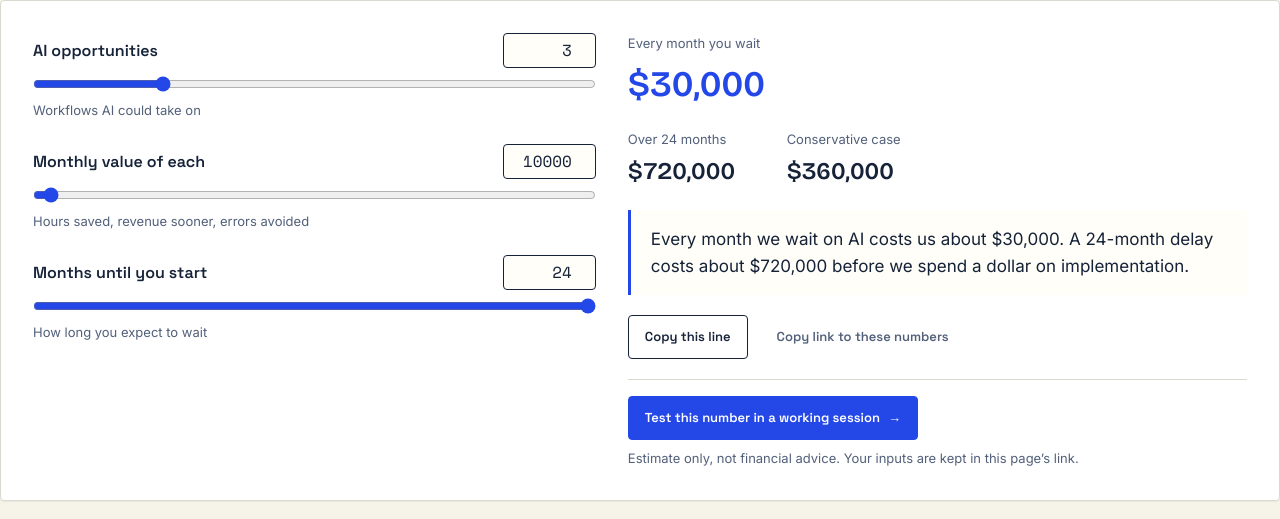
Scenario: CostOfDelayCalculator › shows the kept value, not the typed one, when an entry snaps back to it
Replace the text in the number field named "Months until you start, exact value" with "99" at (549, 272), box x1=503 y1=255 x2=596 y2=290
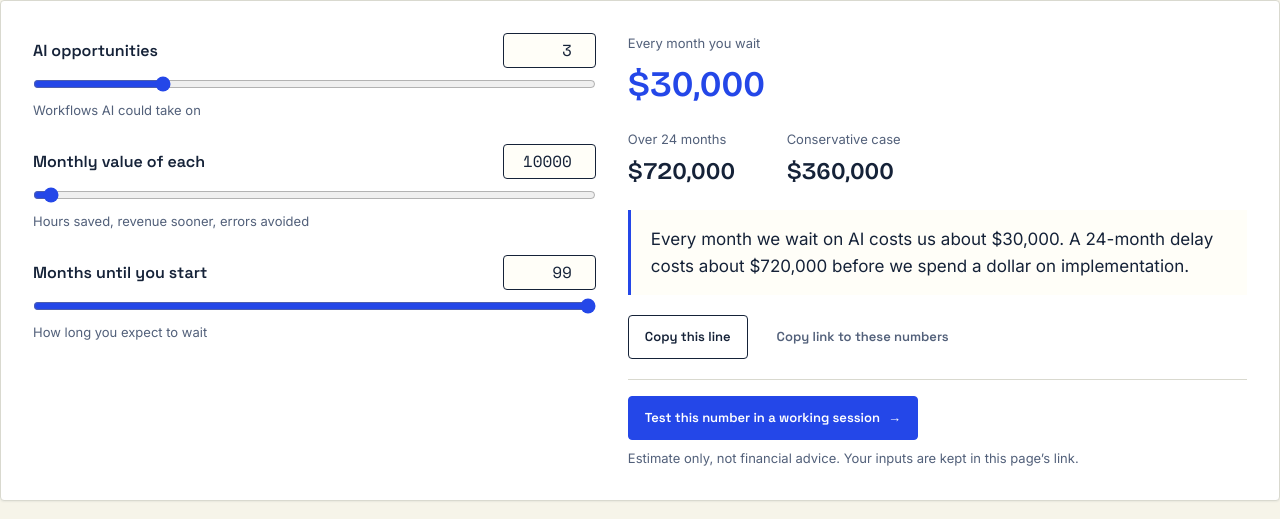
Leave the number field named "Months until you start, exact value", box x1=503 y1=255 x2=596 y2=290
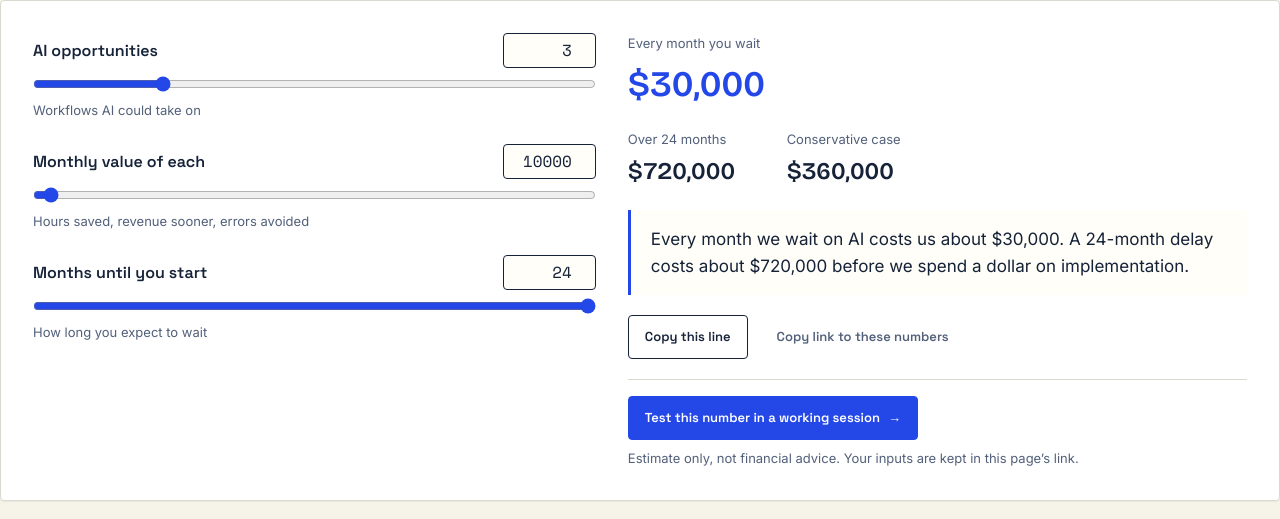
Expected: the number field named "Months until you start, exact value" holds "24", x1=503 y1=255 x2=596 y2=290
